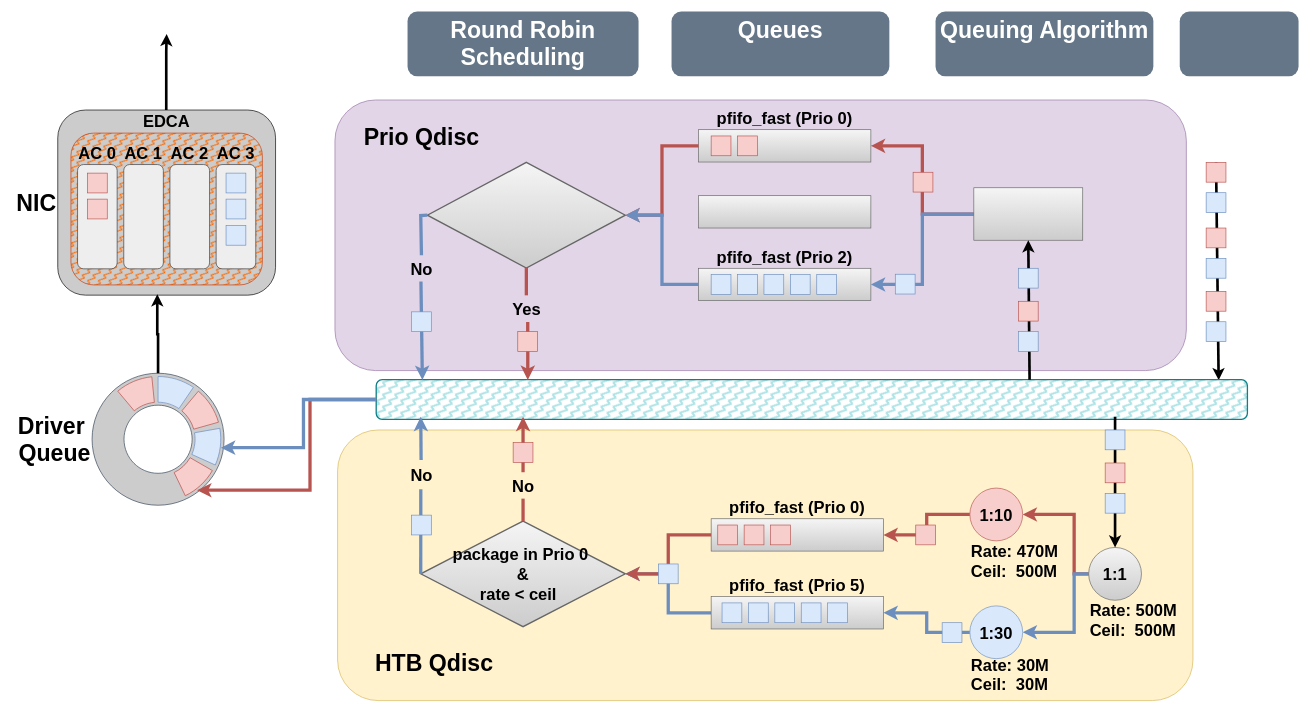
Some shapes in this 1309 by 712 pixel diagram are drawn without their labels. The shapes that lost their labels are listed below. From the top down, each one's centre as x and y in pixels, then its label:
At point (1238, 43): "Package Feed".
At point (526, 214): "package in Prio 0".
At point (784, 211): "pfifo_fast (Prio 1)".
At point (1028, 213): "Priority Queuing".
At point (811, 399): "Qdisc".
